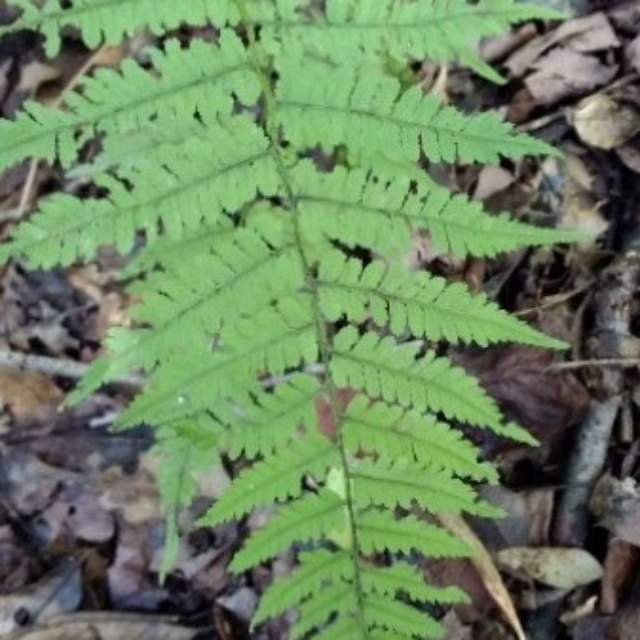obstacle: (42, 19, 555, 623)
